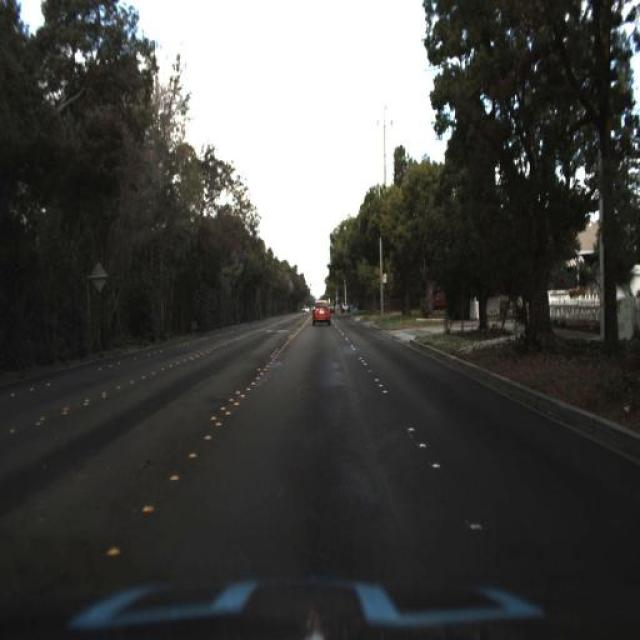car: (418, 276, 467, 316), (307, 290, 335, 335)
